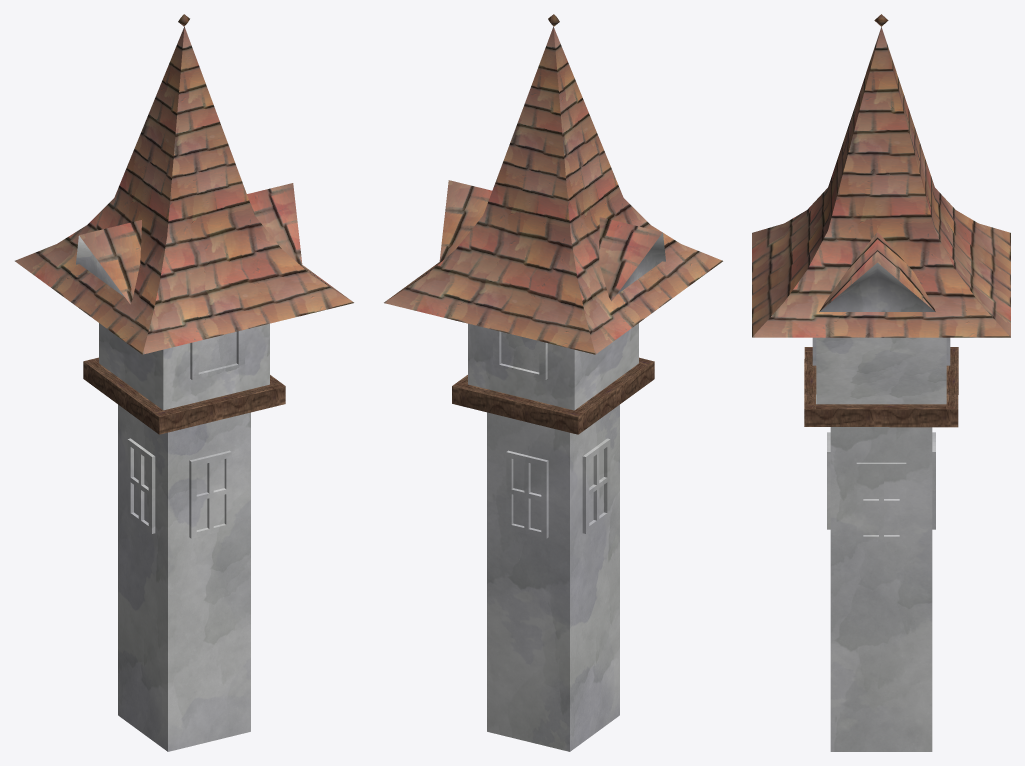
File: tower_002 (1).fbx
3 views of the same model, side by side, from view 1: azimuth 30°, elevation 25°; view 2: azimuth 150°, elevation 25°; view 3: azimuth 270°, elevation 25° (orthographic).
Parts seen in each view (by area): view 1: Box001; view 2: Box001; view 3: Box001.
Boxes of the visible parts, x1,y1,x2,y2 form: Box001: [15, 14, 353, 751]; Box001: [384, 14, 722, 751]; Box001: [752, 14, 1010, 751].
Bounding box in the file's own units: 142 × 449 × 147.
